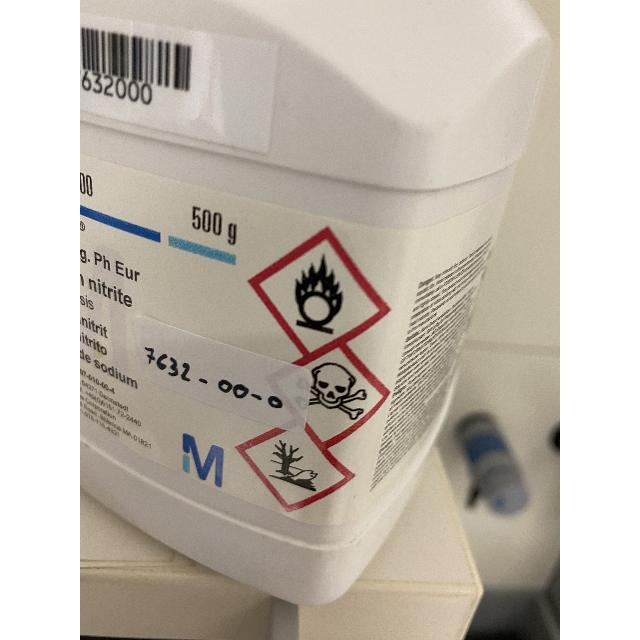acute toxicity: (296, 362, 366, 420)
hazardous to the environment: (269, 440, 355, 512)
oxidising: (294, 253, 342, 335)
